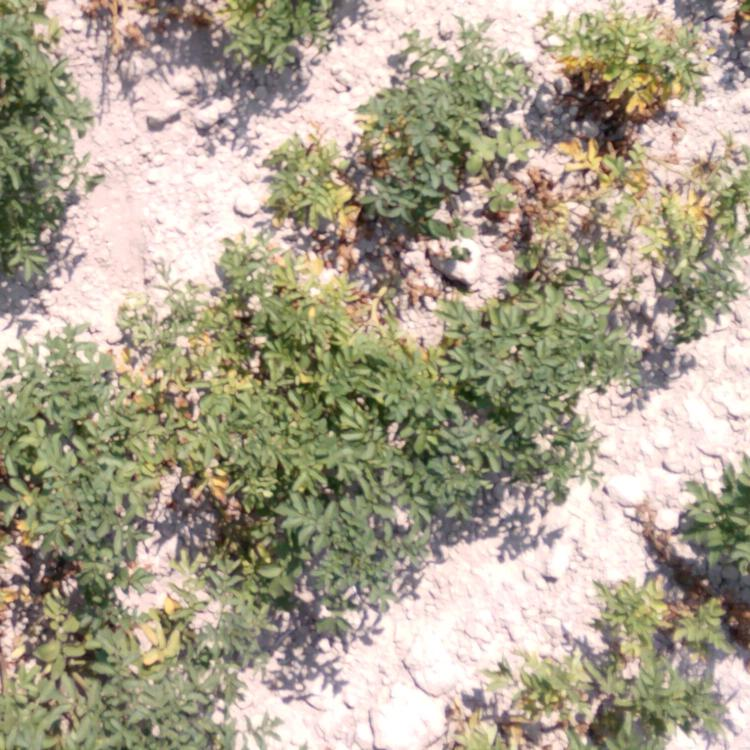healthy: (281, 412, 417, 587), (384, 43, 520, 191), (472, 310, 588, 459), (14, 350, 115, 511), (10, 1, 59, 267), (14, 692, 206, 744), (225, 1, 316, 63)
stressed: (9, 521, 193, 682), (132, 329, 253, 512), (269, 263, 431, 380), (551, 152, 715, 266), (547, 13, 693, 123), (455, 651, 613, 745), (606, 559, 721, 655), (278, 146, 366, 254)
